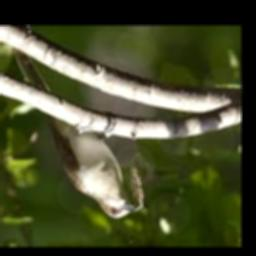Cuckoo: (14, 47, 139, 218)
